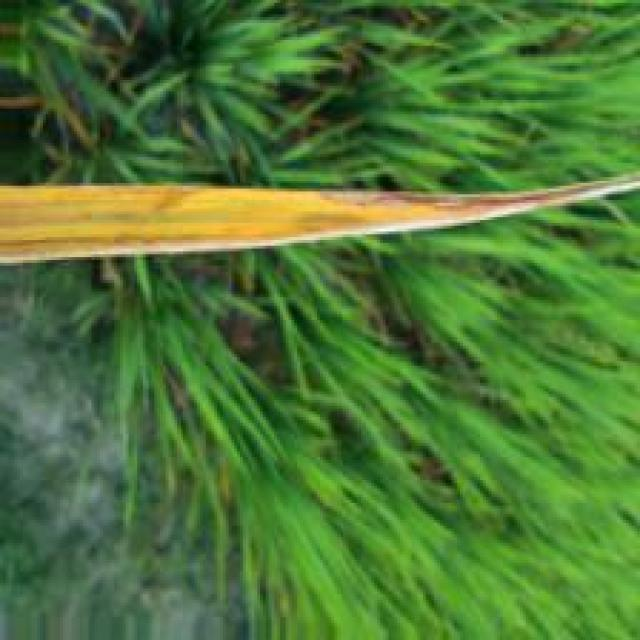Bacterial_Leaf_Blight: (0, 168, 640, 268)
